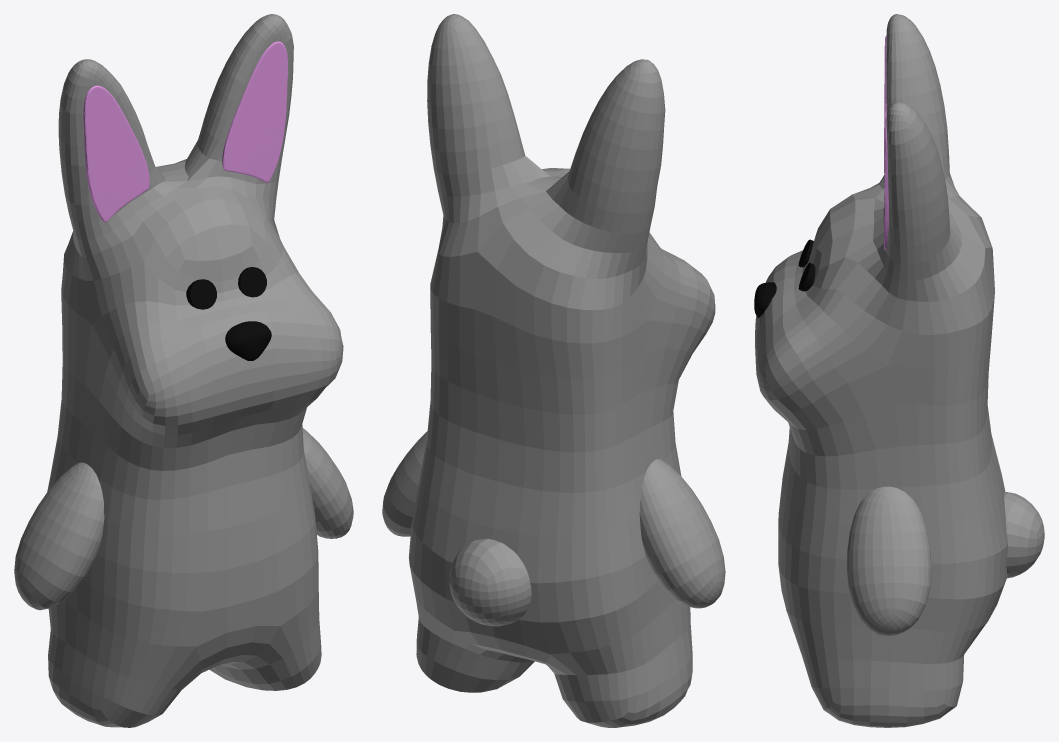
File: bunny.fbx
3 renders of one model, left to right at view 1: azimuth 30°, elevation 25°; view 2: azimuth 150°, elevation 25°; view 3: azimuth 270°, elevation 25°, orthographic. The views are drawn at different scales.
Visible parts, largest first — view 1: Hare Body; view 2: Hare Body; view 3: Hare Body.
Boxes of the visible parts, x1,y1,x2,y2 form: Hare Body: (14,14,353,727); Hare Body: (382,14,725,727); Hare Body: (754,14,1044,727).
Size of the model in its own units: 74.41 by 142 by 59.79.
